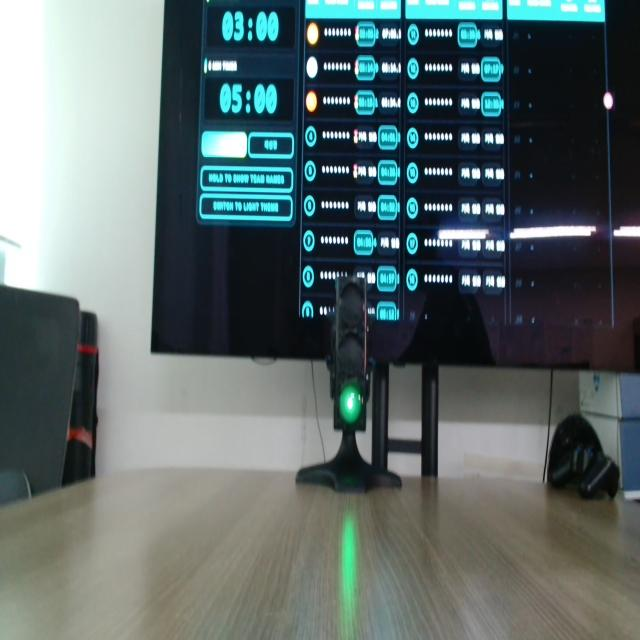green_light: (339, 384, 362, 424)
